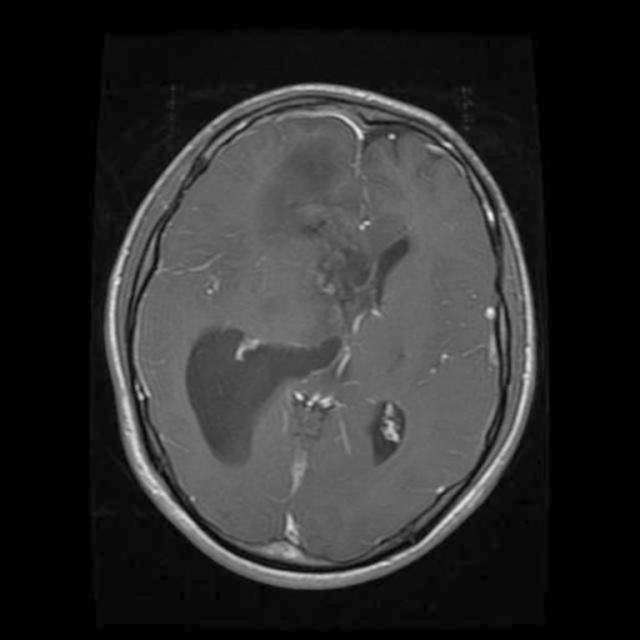pituitary tumor: (308, 218, 394, 312)
